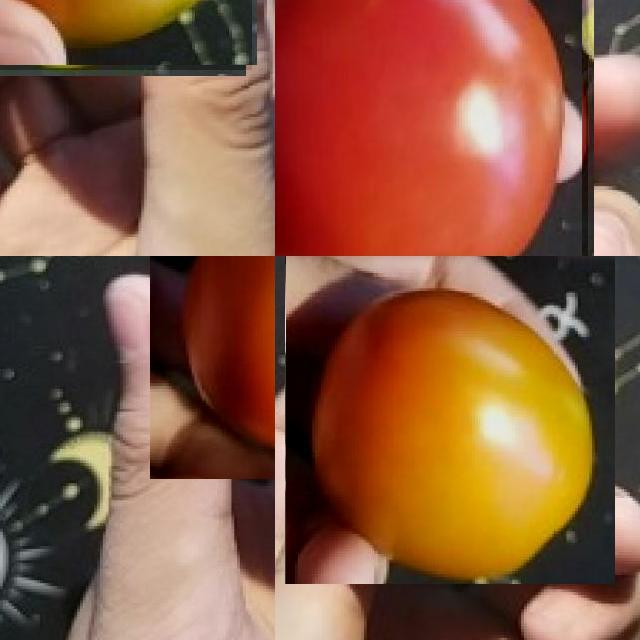Fresh Tomato: (285, 256, 615, 584), (275, 0, 588, 256), (150, 256, 275, 479)
Rotten Tomato: (0, 0, 252, 70)
